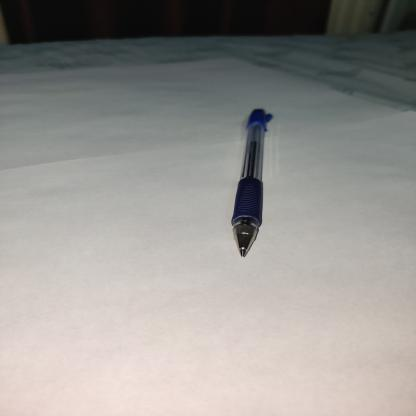pen: (218, 95, 284, 298)
